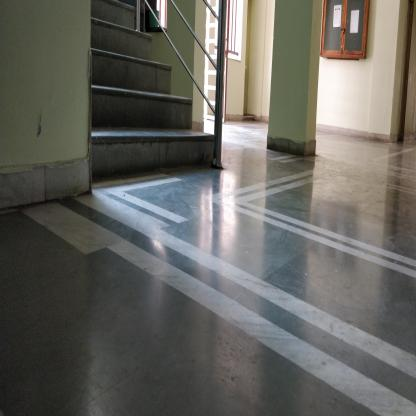stairs: (94, 14, 136, 190)
